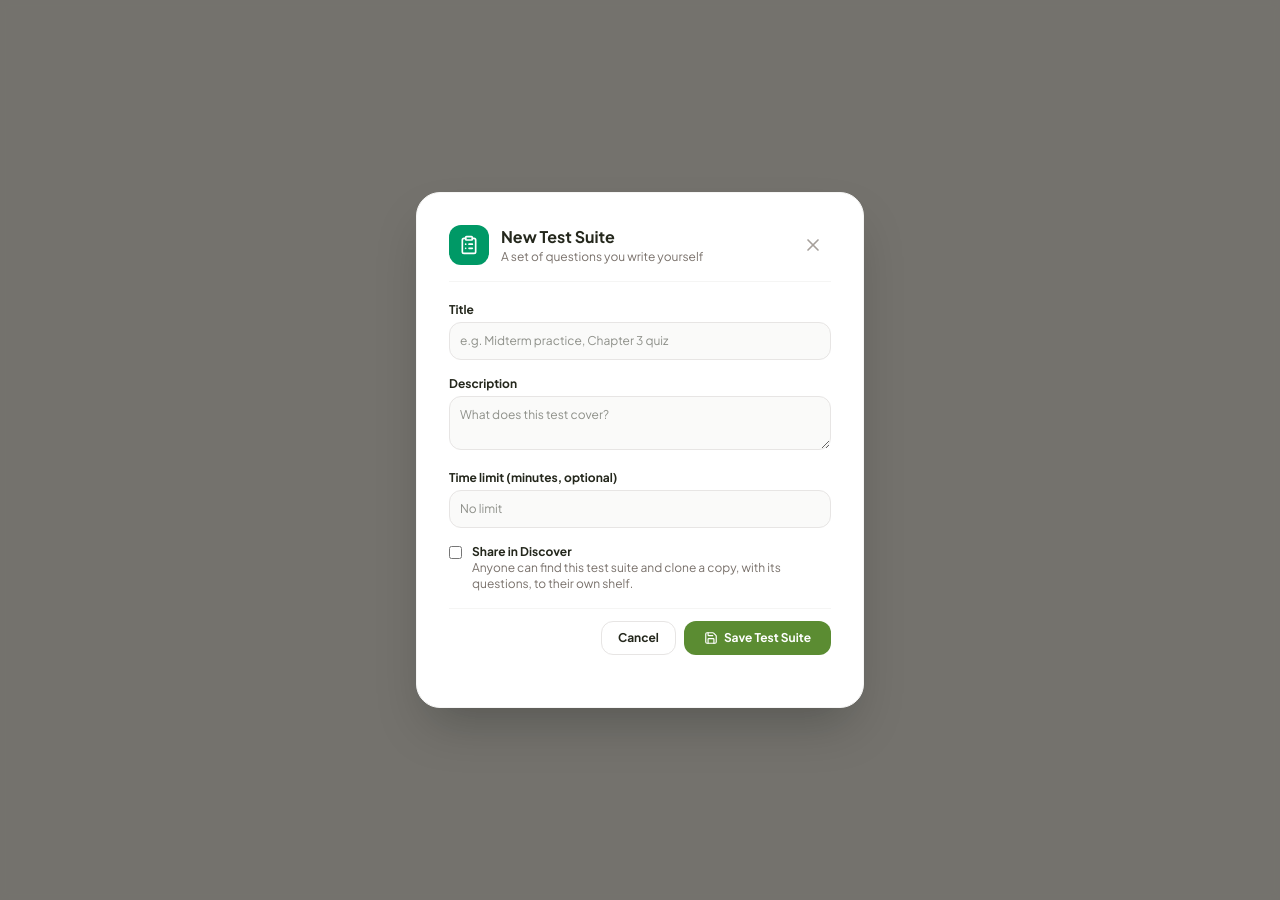
it: TestSuiteModal › shows save errors, keeps the modal open and re-enables the button
This screenshot has width=1280, height=900.
Type "T" into the field with test id "test-suite-title-input" at (640, 341), box top-left (449, 322), bottom-right (831, 360)
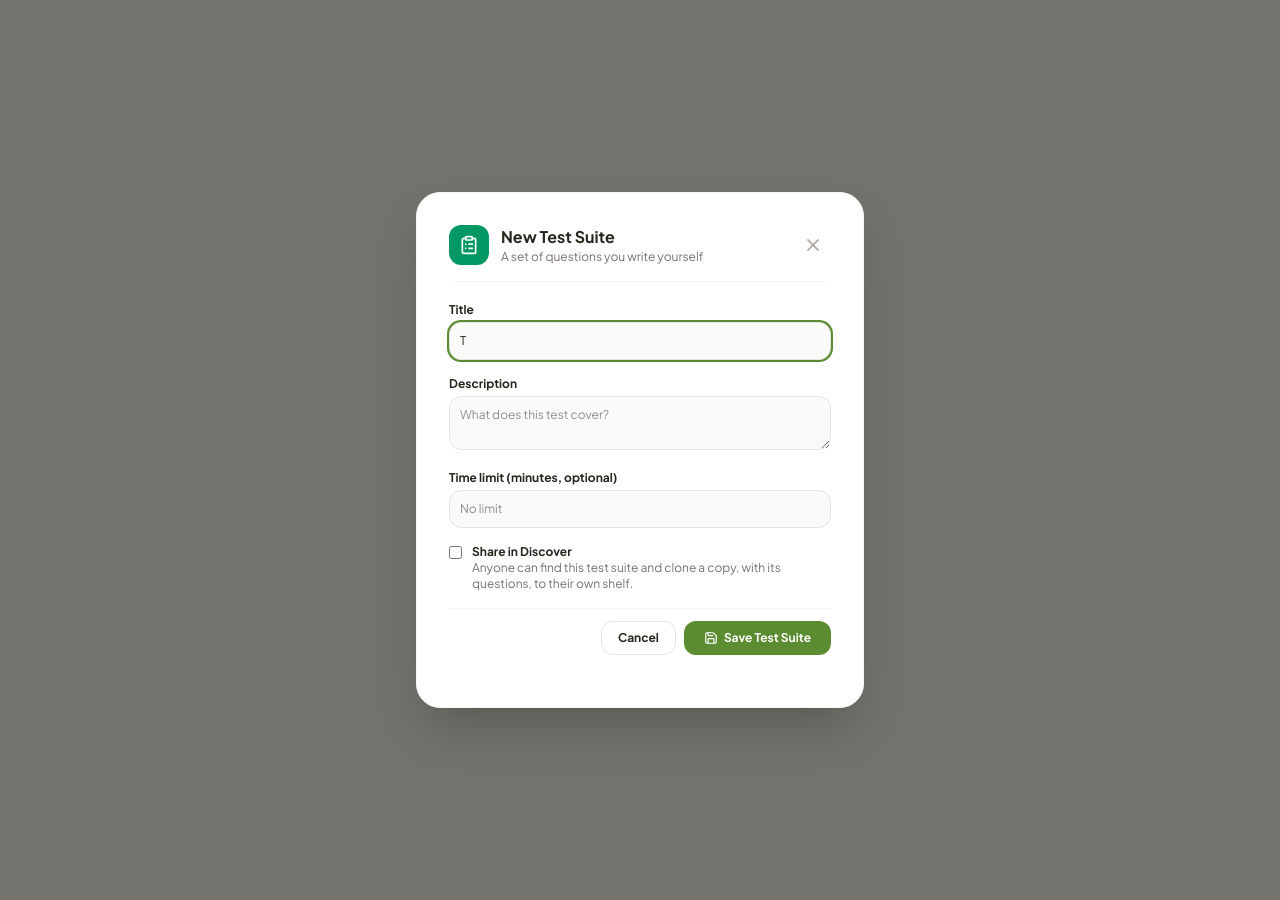
Click the button with test id "btn-save-test-suite" at (757, 638), box top-left (684, 621), bottom-right (831, 655)
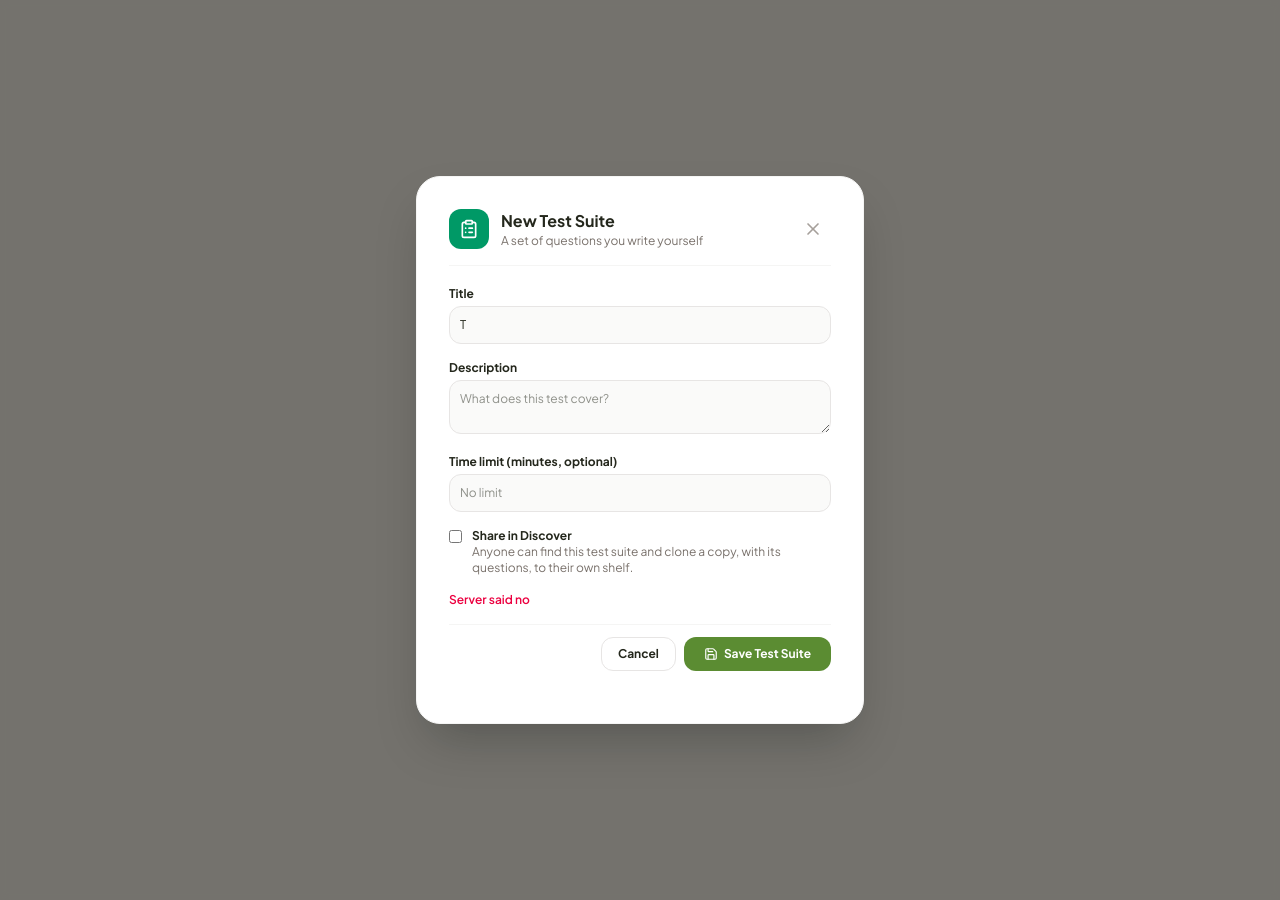
Expected: the text "Server said no" is shown, top-left (449, 592), bottom-right (530, 607)
Click the button with test id "btn-save-test-suite" at (757, 654), box top-left (684, 637), bottom-right (831, 671)
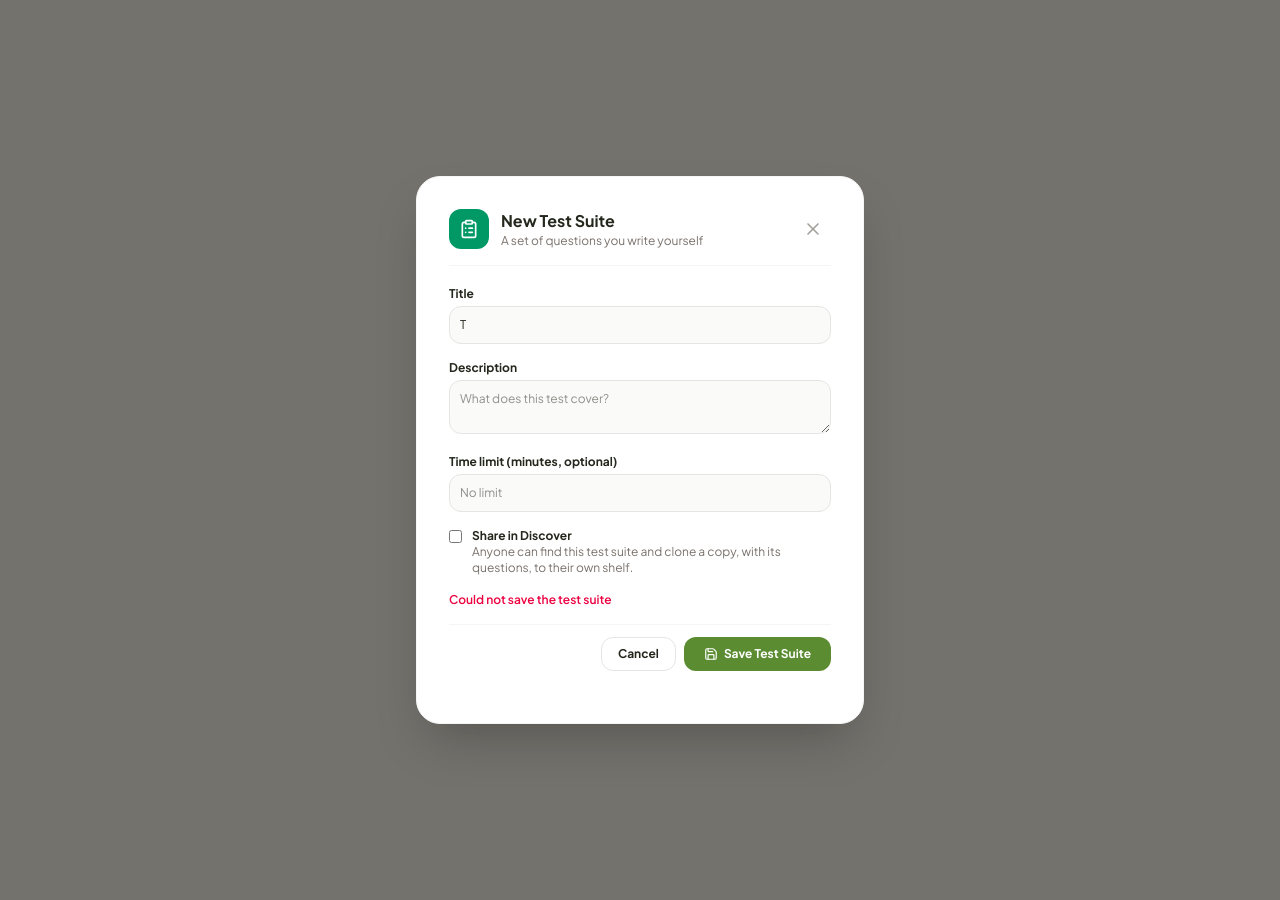
Expected: the text "Could not save the test suite" is shown, top-left (449, 592), bottom-right (612, 607)
